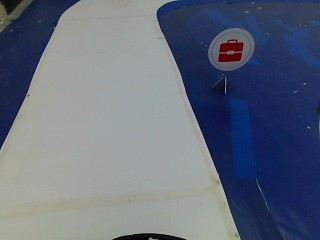company: (208, 29, 253, 72)
